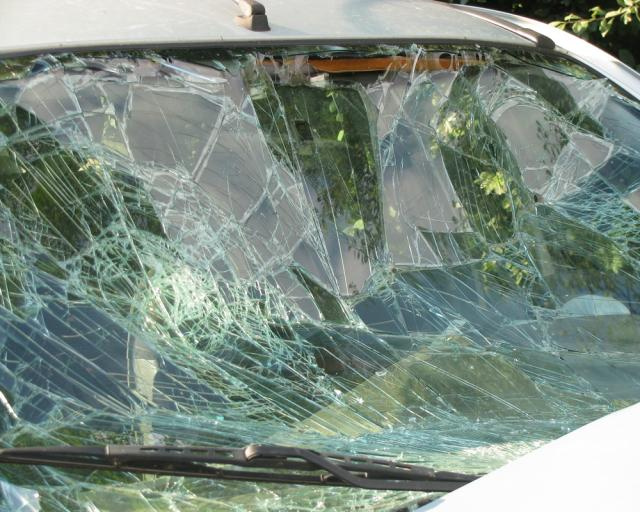glass shatter: (0, 41, 640, 512)
